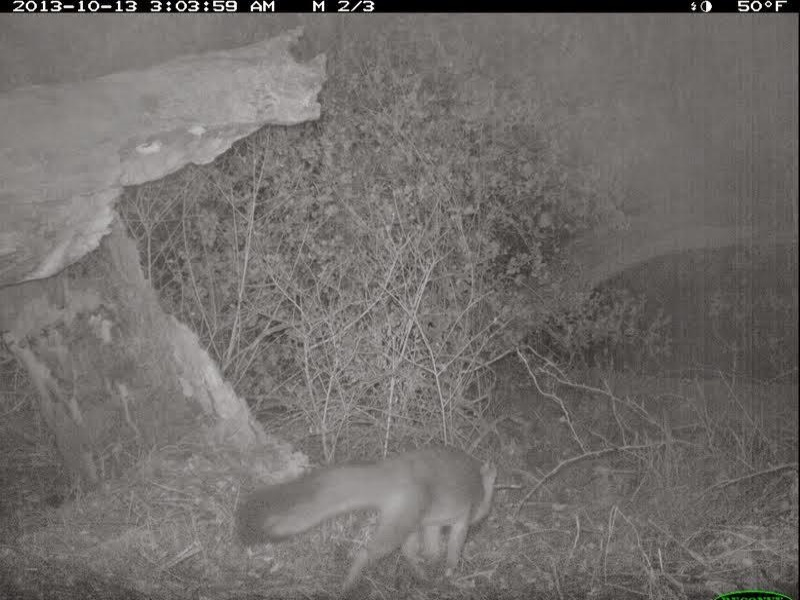fox: (232, 442, 503, 594)
